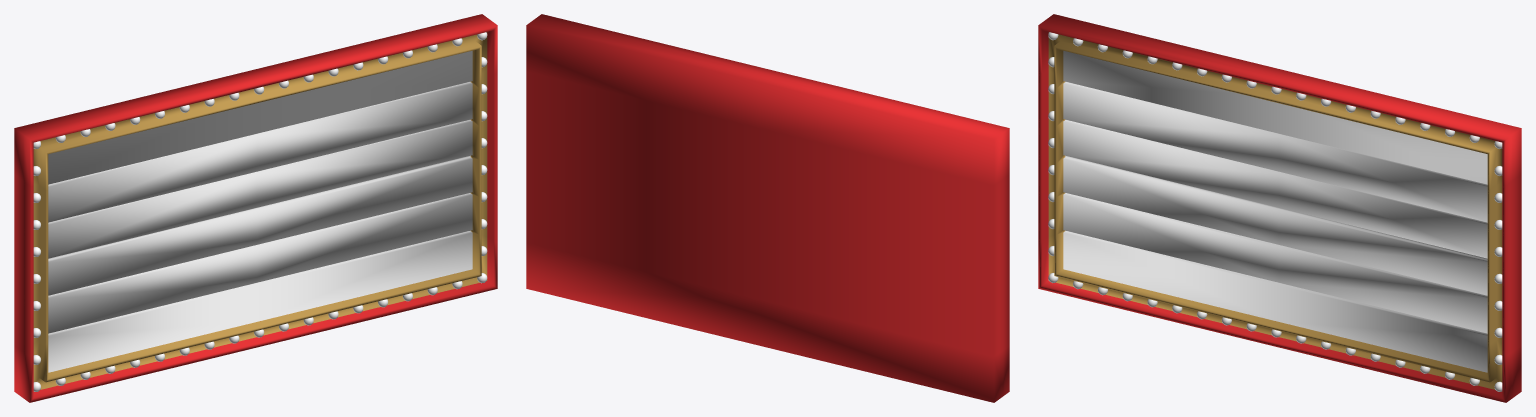
The model's file is leaderboard.glb.
The picture shows the model from 3 angles, left to right: view 1: azimuth 30°, elevation 25°; view 2: azimuth 150°, elevation 25°; view 3: azimuth 330°, elevation 25°; orthographic projection.
Visible parts, largest first — view 1: leaderboard; view 2: leaderboard; view 3: leaderboard.
Part boxes in pixels (box(x1,y1,x2,y2)): leaderboard: box(14, 14, 497, 402); leaderboard: box(526, 14, 1009, 402); leaderboard: box(1038, 14, 1521, 402).
Bounding box in the file's own units: 5.14 × 2.77 × 0.2933.
